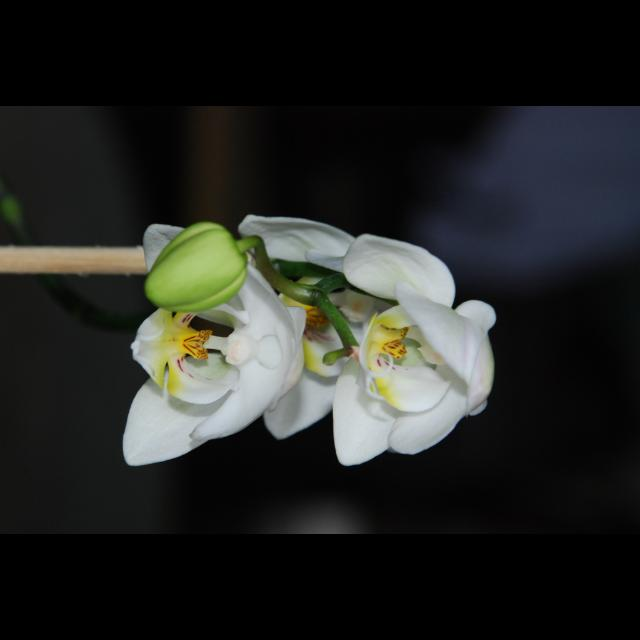Flower: (240, 214, 454, 440), (123, 220, 307, 466)
